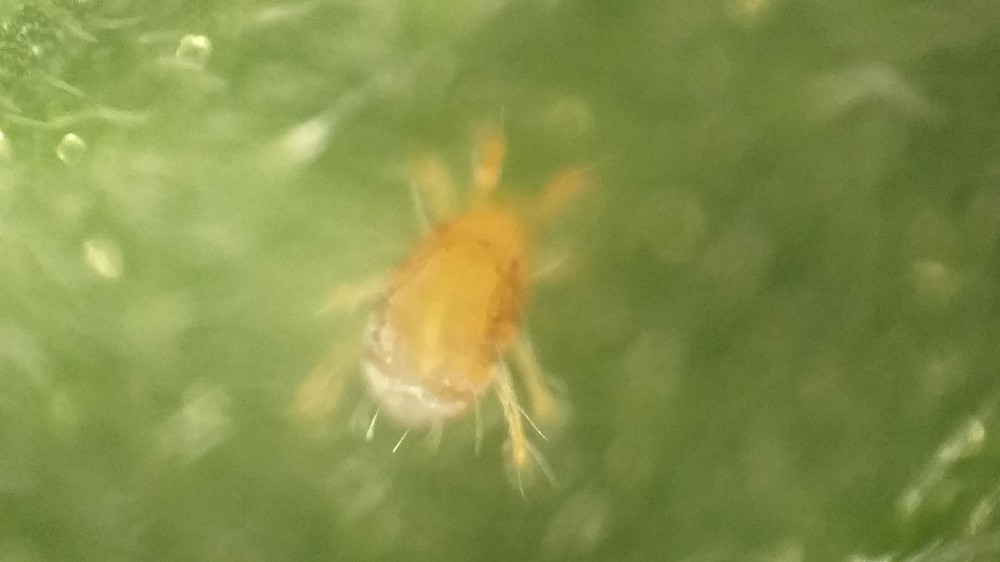Aracnido Rojo: (305, 125, 638, 503)
